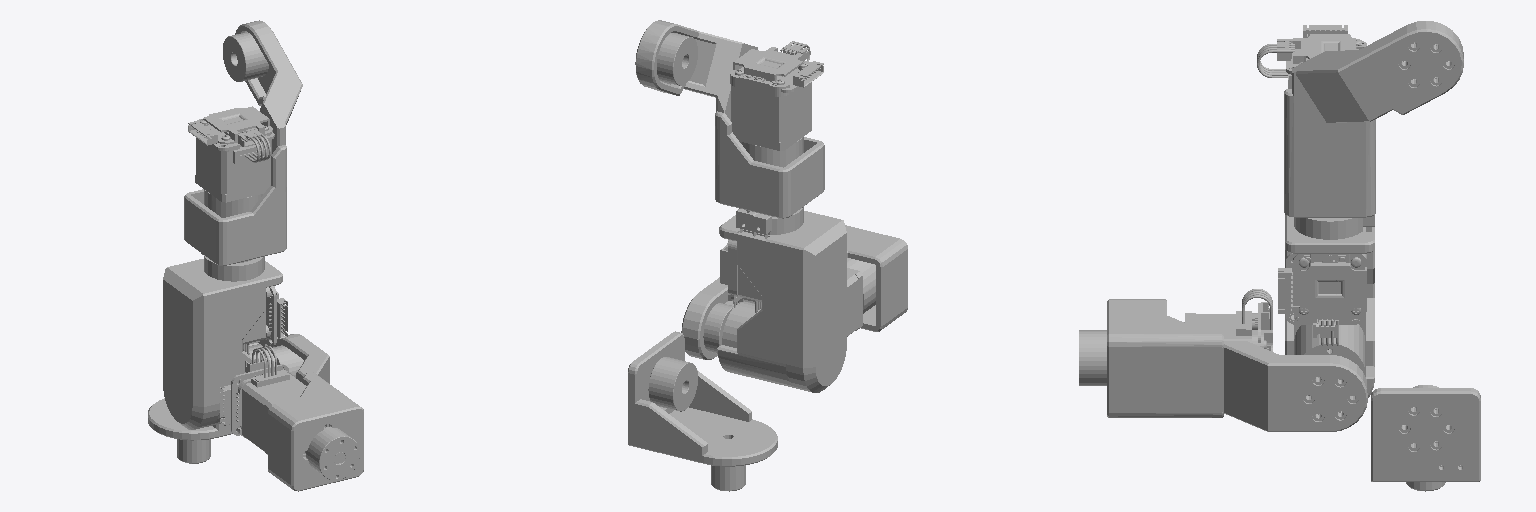
robot.urdf — URDF_XG_Robot_Arm_Urdf_V1.1:
<?xml version="1.0" encoding="utf-8"?>
<!-- This URDF was automatically created by SolidWorks to URDF Exporter! Originally created by [author] ([email redacted]) 
     Commit Version: 1.6.0-4-g7f85cfe  Build Version: 1.6.7995.38578
     For more information, please see http://wiki.ros.org/sw_urdf_exporter -->
<robot
  name="URDF_XG_Robot_Arm_Urdf_V1.1">
  <link
    name="base_link">
    <inertial>
      <origin
        xyz="-6.62271790898657E-05 -0.000162301184482969 0.0589260607237122"
        rpy="0 0 0" />
      <mass
        value="0.553880194517112" />
      <inertia
        ixx="0.00125395744532095"
        ixy="6.30504993363177E-07"
        ixz="4.37302567472788E-06"
        iyy="0.00125390287854359"
        iyz="-4.01972122790884E-06"
        izz="0.000721320676009685" />
    </inertial>
    <visual>
      <origin
        xyz="0 0 0"
        rpy="0 0 0" />
      <geometry>
        <mesh
          filename="package://URDF_XG_Robot_Arm_Urdf_V1.1/meshes/base_link.STL" />
      </geometry>
      <material
        name="">
        <color
          rgba="0.752941176470588 0.752941176470588 0.752941176470588 1" />
      </material>
    </visual>
    <collision>
      <origin
        xyz="0 0 0"
        rpy="0 0 0" />
      <geometry>
        <mesh
          filename="package://URDF_XG_Robot_Arm_Urdf_V1.1/meshes/base_link.STL" />
      </geometry>
    </collision>
  </link>
  <link
    name="link1">
    <inertial>
      <origin
        xyz="0.000159015425944007 -0.0243405579392273 -0.0177069078146257"
        rpy="0 0 0" />
      <mass
        value="0.0608469523040024" />
      <inertia
        ixx="3.70074391646153E-05"
        ixy="-1.15776886055255E-07"
        ixz="-3.25996741776691E-08"
        iyy="2.56788832154839E-05"
        iyz="1.10292460962293E-05"
        izz="3.87763473470933E-05" />
    </inertial>
    <visual>
      <origin
        xyz="0 0 0"
        rpy="0 0 0" />
      <geometry>
        <mesh
          filename="package://URDF_XG_Robot_Arm_Urdf_V1.1/meshes/link1.STL" />
      </geometry>
      <material
        name="">
        <color
          rgba="0.752941176470588 0.752941176470588 0.752941176470588 1" />
      </material>
    </visual>
    <collision>
      <origin
        xyz="0 0 0"
        rpy="0 0 0" />
      <geometry>
        <mesh
          filename="package://URDF_XG_Robot_Arm_Urdf_V1.1/meshes/link1.STL" />
      </geometry>
    </collision>
  </link>
  <joint
    name="joint1"
    type="continuous">
    <origin
      xyz="0 0 0.166"
      rpy="0 0 1.5708" />
    <parent
      link="base_link" />
    <child
      link="link1" />
    <axis
      xyz="0 0 1" />
  </joint>
  <link
    name="link2">
    <inertial>
      <origin
        xyz="0.100016791971952 0.00010706633715631 -0.0107835162525267"
        rpy="0 0 0" />
      <mass
        value="0.433546101825407" />
      <inertia
        ixx="0.000140434169717076"
        ixy="-5.94210700299094E-08"
        ixz="1.12984899758531E-06"
        iyy="0.00105045835658617"
        iyz="4.86847749020649E-08"
        izz="0.00104172634579532" />
    </inertial>
    <visual>
      <origin
        xyz="0 0 0"
        rpy="0 0 0" />
      <geometry>
        <mesh
          filename="package://URDF_XG_Robot_Arm_Urdf_V1.1/meshes/link2.STL" />
      </geometry>
      <material
        name="">
        <color
          rgba="0.752941176470588 0.752941176470588 0.752941176470588 1" />
      </material>
    </visual>
    <collision>
      <origin
        xyz="0 0 0"
        rpy="0 0 0" />
      <geometry>
        <mesh
          filename="package://URDF_XG_Robot_Arm_Urdf_V1.1/meshes/link2.STL" />
      </geometry>
    </collision>
  </link>
  <joint
    name="joint2"
    type="revolute">
    <origin
      xyz="0 0 0"
      rpy="1.5708 -1.5708 0" />
    <parent
      link="link1" />
    <child
      link="link2" />
    <axis
      xyz="0 0 1" />
    <limit
      lower="-1.5708"
      upper="1.5708"
      effort="0"
      velocity="0" />
  </joint>
  <link
    name="link3">
    <inertial>
      <origin
        xyz="0.0413167215618624 -0.0479933927735264 -0.0109451750096955"
        rpy="0 0 0" />
      <mass
        value="0.163443679549629" />
      <inertia
        ixx="0.000132142857401717"
        ixy="2.7060597835024E-05"
        ixz="-1.53294424814764E-05"
        iyy="7.61011370623479E-05"
        iyz="4.0549653727081E-05"
        izz="0.000133520429120215" />
    </inertial>
    <visual>
      <origin
        xyz="0 0 0"
        rpy="0 0 0" />
      <geometry>
        <mesh
          filename="package://URDF_XG_Robot_Arm_Urdf_V1.1/meshes/link3.STL" />
      </geometry>
      <material
        name="">
        <color
          rgba="0.752941176470588 0.752941176470588 0.752941176470588 1" />
      </material>
    </visual>
    <collision>
      <origin
        xyz="0 0 0"
        rpy="0 0 0" />
      <geometry>
        <mesh
          filename="package://URDF_XG_Robot_Arm_Urdf_V1.1/meshes/link3.STL" />
      </geometry>
    </collision>
  </link>
  <joint
    name="joint3"
    type="revolute">
    <origin
      xyz="0.2 0 0"
      rpy="-3.1416 0 1.5708" />
    <parent
      link="link2" />
    <child
      link="link3" />
    <axis
      xyz="0 0 1" />
    <limit
      lower="0"
      upper="3.1416"
      effort="0"
      velocity="0" />
  </joint>
  <link
    name="link4">
    <inertial>
      <origin
        xyz="-2.81608084682361E-05 -0.00682767077230628 0.0299455082197141"
        rpy="0 0 0" />
      <mass
        value="0.178465854809275" />
      <inertia
        ixx="0.00010542070955742"
        ixy="-1.56493108731349E-07"
        ixz="-1.17627516604835E-07"
        iyy="0.000111293192127703"
        iyz="-4.12005754357461E-07"
        izz="4.4231117465552E-05" />
    </inertial>
    <visual>
      <origin
        xyz="0 0 0"
        rpy="0 0 0" />
      <geometry>
        <mesh
          filename="package://URDF_XG_Robot_Arm_Urdf_V1.1/meshes/link4.STL" />
      </geometry>
      <material
        name="">
        <color
          rgba="0.752941176470588 0.752941176470588 0.752941176470588 1" />
      </material>
    </visual>
    <collision>
      <origin
        xyz="0 0 0"
        rpy="0 0 0" />
      <geometry>
        <mesh
          filename="package://URDF_XG_Robot_Arm_Urdf_V1.1/meshes/link4.STL" />
      </geometry>
    </collision>
  </link>
  <joint
    name="joint4"
    type="continuous">
    <origin
      xyz="0.047631 -0.1845 0"
      rpy="-1.5708 0 0" />
    <parent
      link="link3" />
    <child
      link="link4" />
    <axis
      xyz="0 0 1" />
  </joint>
  <link
    name="link5">
    <inertial>
      <origin
        xyz="0.000156431818420927 -0.0617917966301205 -0.0100252833788212"
        rpy="0 0 0" />
      <mass
        value="0.15793222447205" />
      <inertia
        ixx="0.000135933655838788"
        ixy="-6.33132038702472E-08"
        ixz="8.3886144495636E-09"
        iyy="5.60082572905534E-05"
        iyz="3.96647905066164E-05"
        izz="0.000121456700565665" />
    </inertial>
    <visual>
      <origin
        xyz="0 0 0"
        rpy="0 0 0" />
      <geometry>
        <mesh
          filename="package://URDF_XG_Robot_Arm_Urdf_V1.1/meshes/link5.STL" />
      </geometry>
      <material
        name="">
        <color
          rgba="0.752941176470588 0.752941176470588 0.752941176470588 1" />
      </material>
    </visual>
    <collision>
      <origin
        xyz="0 0 0"
        rpy="0 0 0" />
      <geometry>
        <mesh
          filename="package://URDF_XG_Robot_Arm_Urdf_V1.1/meshes/link5.STL" />
      </geometry>
    </collision>
  </link>
  <joint
    name="joint5"
    type="revolute">
    <origin
      xyz="0 0 0"
      rpy="1.5708 -1.5708 0" />
    <parent
      link="link4" />
    <child
      link="link5" />
    <axis
      xyz="0 0 1" />
    <limit
      lower="-1.5708"
      upper="0"
      effort="0"
      velocity="0" />
  </joint>
  <link
    name="ee_link">
    <inertial>
      <origin
        xyz="0 5.04416549057096E-17 -0.00810694746194832"
        rpy="0 0 0" />
      <mass
        value="0.0088163514230773" />
      <inertia
        ixx="6.52932081295385E-07"
        ixy="-7.25399324023274E-23"
        ixz="3.14459133272494E-22"
        iyy="6.52932081295385E-07"
        iyz="-2.5181304416688E-21"
        izz="9.30679454720123E-07" />
    </inertial>
    <visual>
      <origin
        xyz="0 0 0"
        rpy="0 0 0" />
      <geometry>
        <mesh
          filename="package://URDF_XG_Robot_Arm_Urdf_V1.1/meshes/ee_link.STL" />
      </geometry>
      <material
        name="">
        <color
          rgba="0.752941176470588 0.752941176470588 0.752941176470588 1" />
      </material>
    </visual>
    <collision>
      <origin
        xyz="0 0 0"
        rpy="0 0 0" />
      <geometry>
        <mesh
          filename="package://URDF_XG_Robot_Arm_Urdf_V1.1/meshes/ee_link.STL" />
      </geometry>
    </collision>
  </link>
  <joint
    name="joint6"
    type="continuous">
    <origin
      xyz="0 -0.125 0"
      rpy="1.5708 0 0" />
    <parent
      link="link5" />
    <child
      link="ee_link" />
    <axis
      xyz="0 0 1" />
  </joint>
</robot>

--- What the picture shows (computed from the rendered views, not written in the file) ---
Views: 3 orthographic renders of the robot side by side, from view 1: azimuth 30°, elevation 25°; view 2: azimuth 150°, elevation 25°; view 3: azimuth 270°, elevation 25°.
Model URDF_XG_Robot_Arm_Urdf_V1.1 with 7 links and 6 joints (3 revolute, 3 continuous), rooted at base_link, posed all joints at 0.
Links seen in each view (by area): view 1: link3, link4, link5, link1, ee_link; view 2: link3, link4, link1, link5; view 3: link5, link3, link4, link1, ee_link.
Link boxes in pixels (box(x1,y1,x2,y2)): link3: box(184, 20, 302, 265); link4: box(163, 253, 287, 429); link5: box(220, 334, 363, 491); link1: box(148, 337, 277, 463); ee_link: box(306, 427, 359, 479); link3: box(635, 20, 824, 218); link4: box(717, 207, 846, 392); link1: box(628, 331, 777, 491); link5: box(681, 225, 907, 359); link5: box(1107, 289, 1367, 431); link3: box(1257, 21, 1463, 217); link4: box(1278, 215, 1374, 397); link1: box(1371, 385, 1480, 491); ee_link: box(1079, 330, 1106, 385).
Size in the robot's own frame: 0.088 by 0.2001 by 0.2725 metres.
5 mesh visuals loaded from 7 distinct referenced files (5 binary STL); not drawn: 2 (reference not matched to a file when rendering).